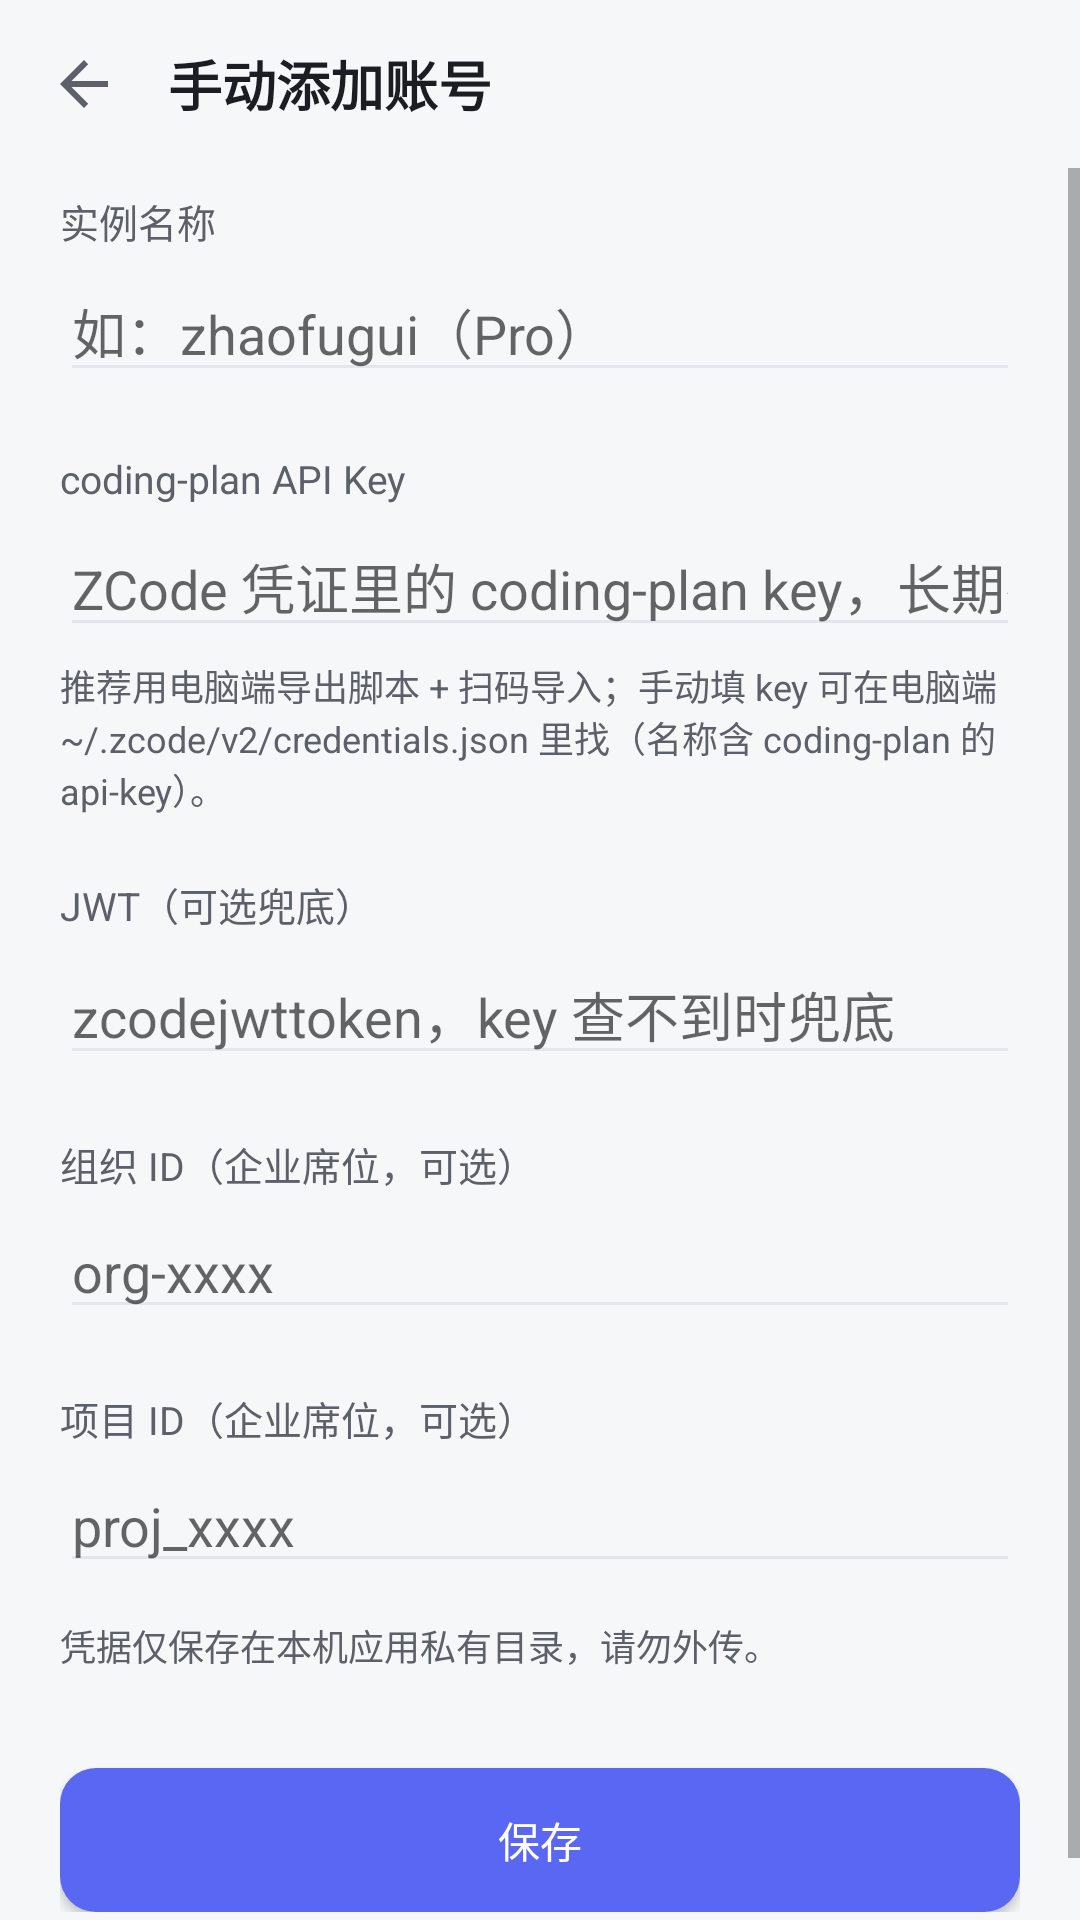

Icon bounding boxes for this 1080x1920 phone screenshot, format (x1, y1, x2, y2):
返回: (60, 60, 108, 108)
